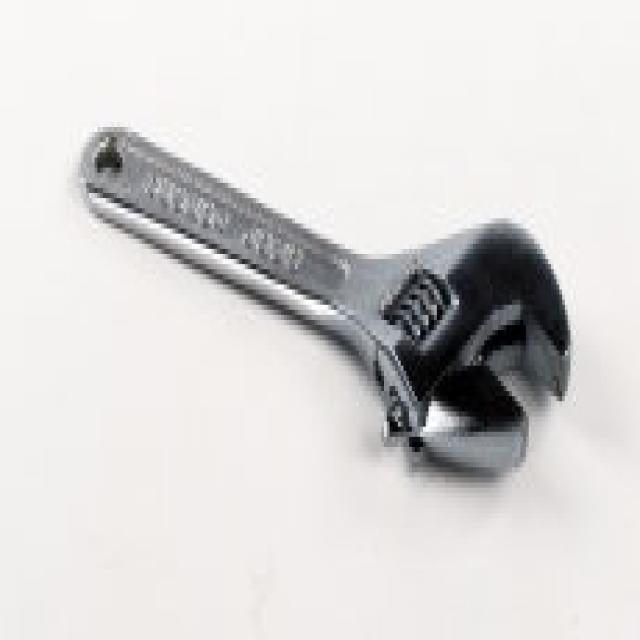wrench: (78, 127, 573, 483)
